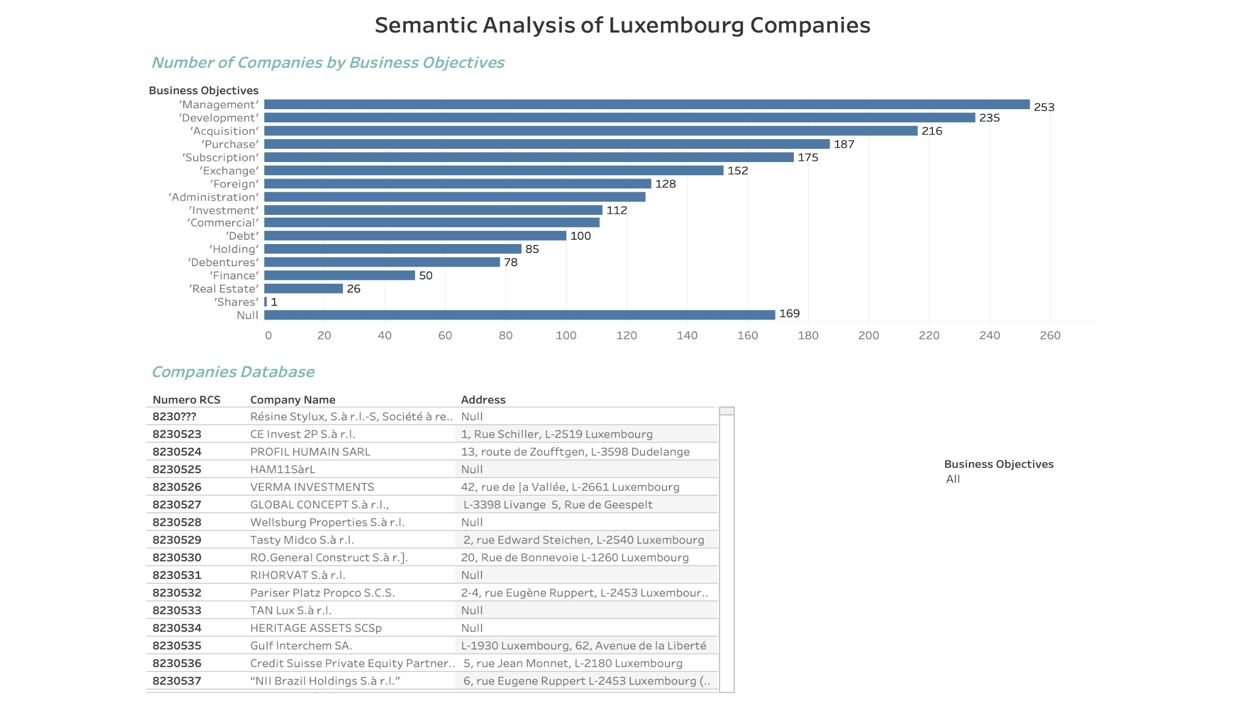

This screenshot's page, from the dashboard's own definition file:
{"tool":"tableau","page":{"name":"Semantic Analysis","canvas":[1000,800],"ordinal":0},"visuals":[{"type":"title","box":[8,8,984,41]},{"type":"worksheet","title":"Objectives","mark":"Automatic","cols":["Company Name (copy)"],"box":[8,49,984,350.9]},{"type":"worksheet","title":"Database","mark":"Automatic","rows":["Numero_RCS","Company_Name","Address"],"box":[8,399.9,984,392]},{"type":"filter","title":"Database","param":"[federated.13tszwa012ir651gb2rmk06gswt6].[Object tags (group)]","box":[829,518,168,52]}]}

Visuals, with their boxes on the page's 1000x800 design canvas (x1, y1, x2, y2). These are canvas units, not pixel positions in the 1248x701 screenshot, which may show the page scaled, cropped or inside an application window:
title: left=8, top=8, right=992, bottom=49
"Objectives" worksheet: left=8, top=49, right=992, bottom=400
"Database" worksheet: left=8, top=400, right=992, bottom=792
"Database" filter: left=829, top=518, right=997, bottom=570
